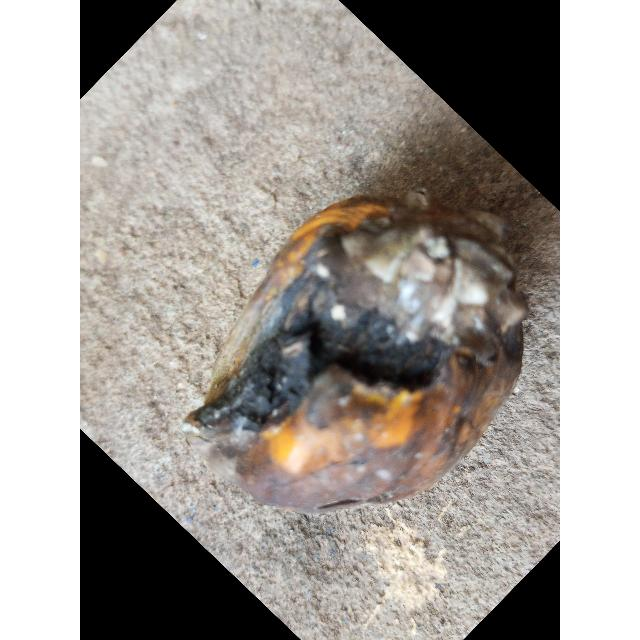damaged: (184, 187, 528, 515)
